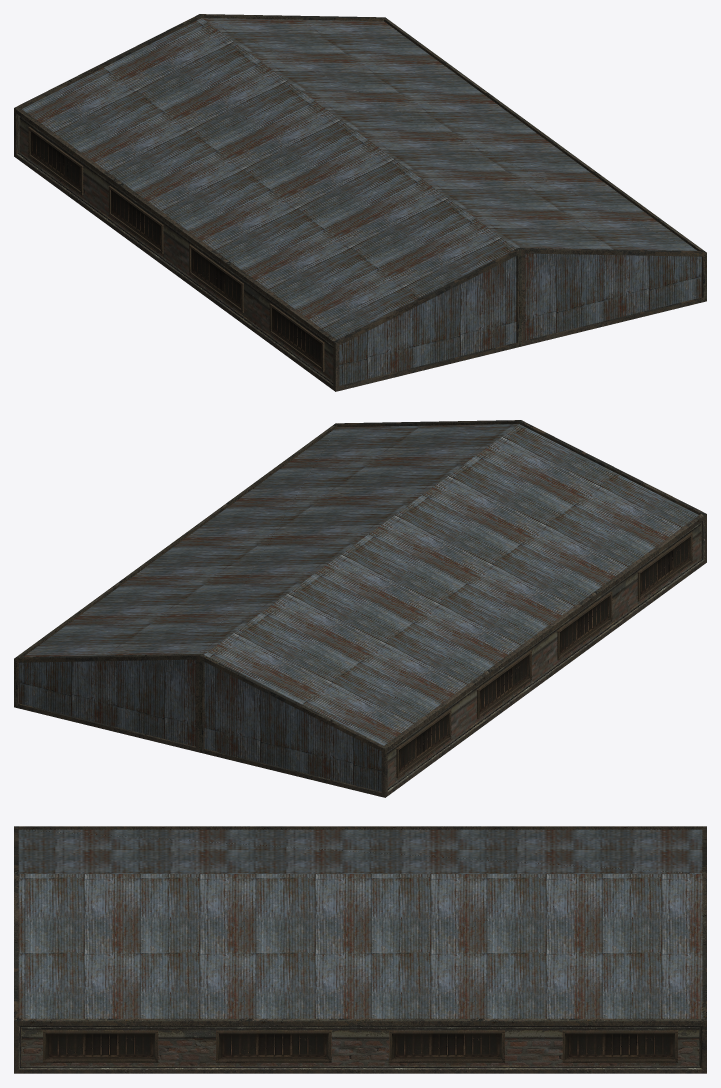
Rendered from roof_mh_4_a_3.glb.
3 renders of one model, top to bottom at view 1: azimuth 30°, elevation 25°; view 2: azimuth 150°, elevation 25°; view 3: azimuth 270°, elevation 25°, orthographic. The views are drawn at different scales.
Visible parts, largest first — view 1: roof_mh_4_a_3; view 2: roof_mh_4_a_3; view 3: roof_mh_4_a_3.
Boxes of the visible parts, left/top/right/bottom form: roof_mh_4_a_3: left=14, top=14, right=706, bottom=391; roof_mh_4_a_3: left=14, top=420, right=706, bottom=797; roof_mh_4_a_3: left=14, top=826, right=706, bottom=1073.
Bounding box in the file's own units: 8 × 2 × 12.
6 materials, 6 textured.
